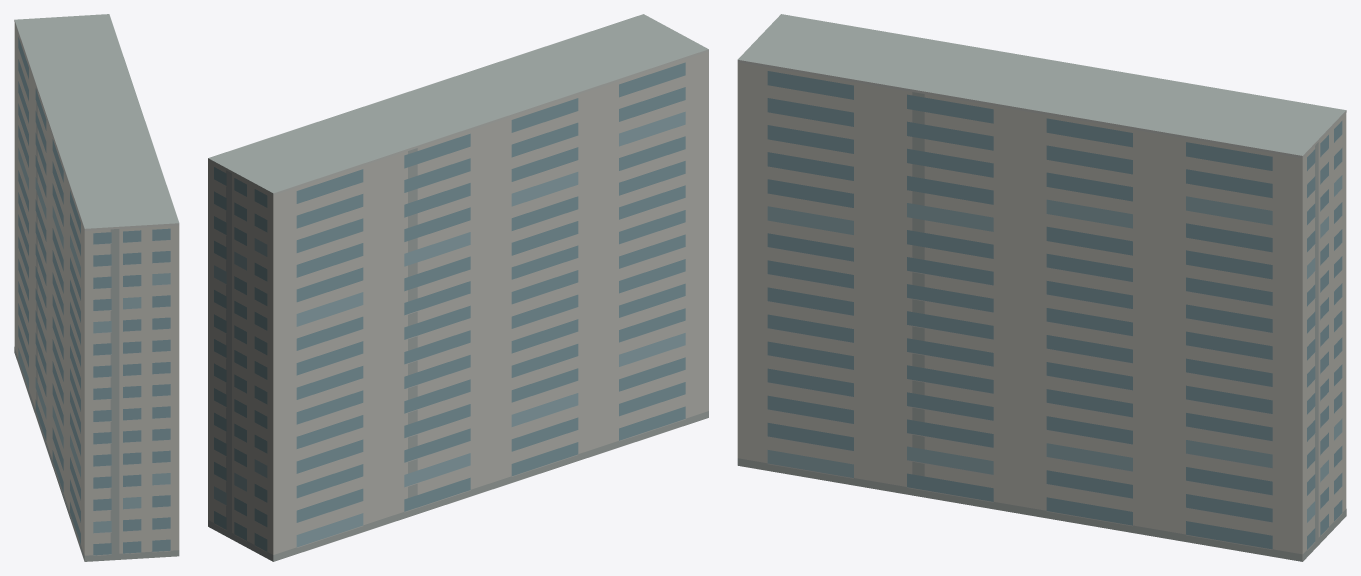
File: residential-d6f5ceb3-f637-4085-ae38-5c675b312783.glb
3 renders of one model, left to right at view 1: azimuth 30°, elevation 25°; view 2: azimuth 150°, elevation 25°; view 3: azimuth 270°, elevation 25°, orthographic. The views are drawn at different scales.
Visible parts, largest first — view 1: residential-d6f5ceb3-f637-4085-ae38-5c675b312783.tmp; view 2: residential-d6f5ceb3-f637-4085-ae38-5c675b312783.tmp; view 3: residential-d6f5ceb3-f637-4085-ae38-5c675b312783.tmp.
Part boxes in pixels (x1,y1,x2,y2): residential-d6f5ceb3-f637-4085-ae38-5c675b312783.tmp: [14, 14, 179, 561]; residential-d6f5ceb3-f637-4085-ae38-5c675b312783.tmp: [208, 14, 708, 561]; residential-d6f5ceb3-f637-4085-ae38-5c675b312783.tmp: [737, 14, 1346, 561].
Size of the model in its own units: 30 by 40 by 54.38.
